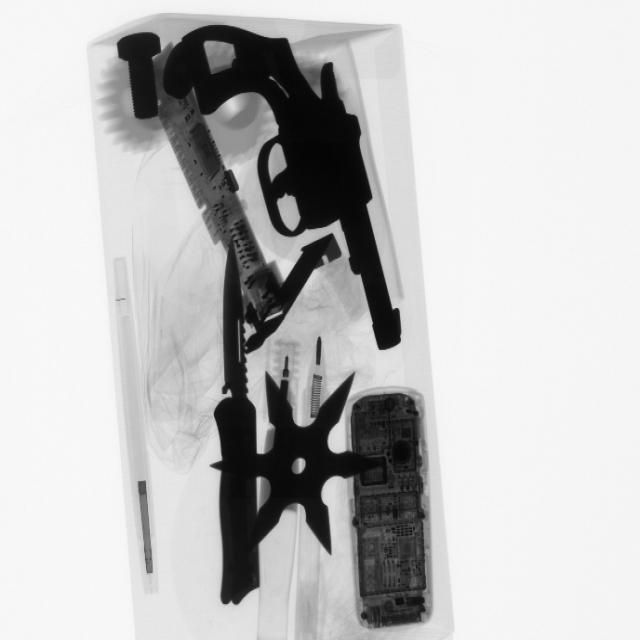GUN: (199, 17, 404, 353)
KNIFE: (202, 258, 270, 605)
SHURIKEN: (244, 365, 383, 575)
